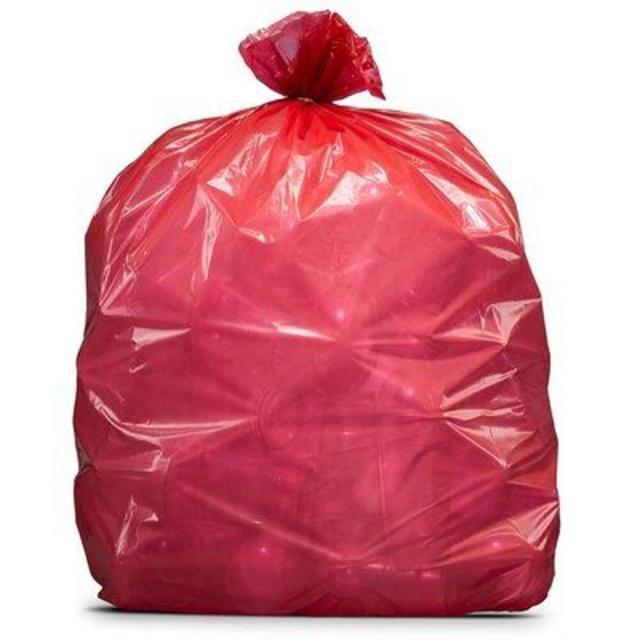Garbage_Bag: (78, 38, 562, 632)
